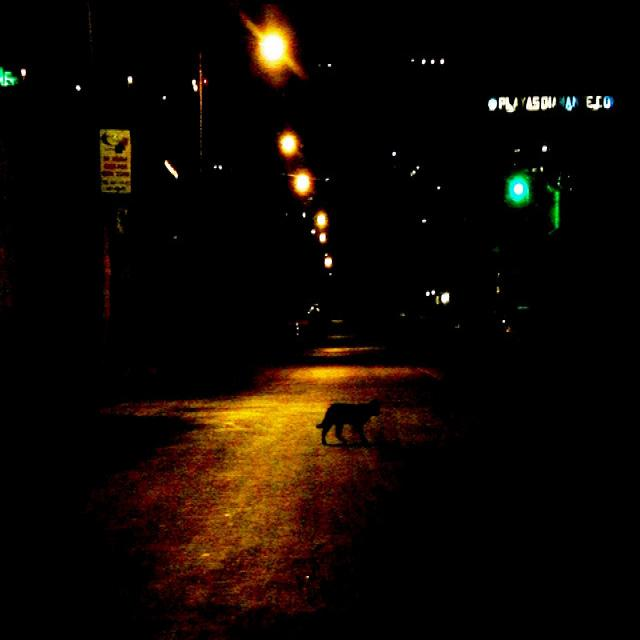Cat: (324, 378, 387, 455)
